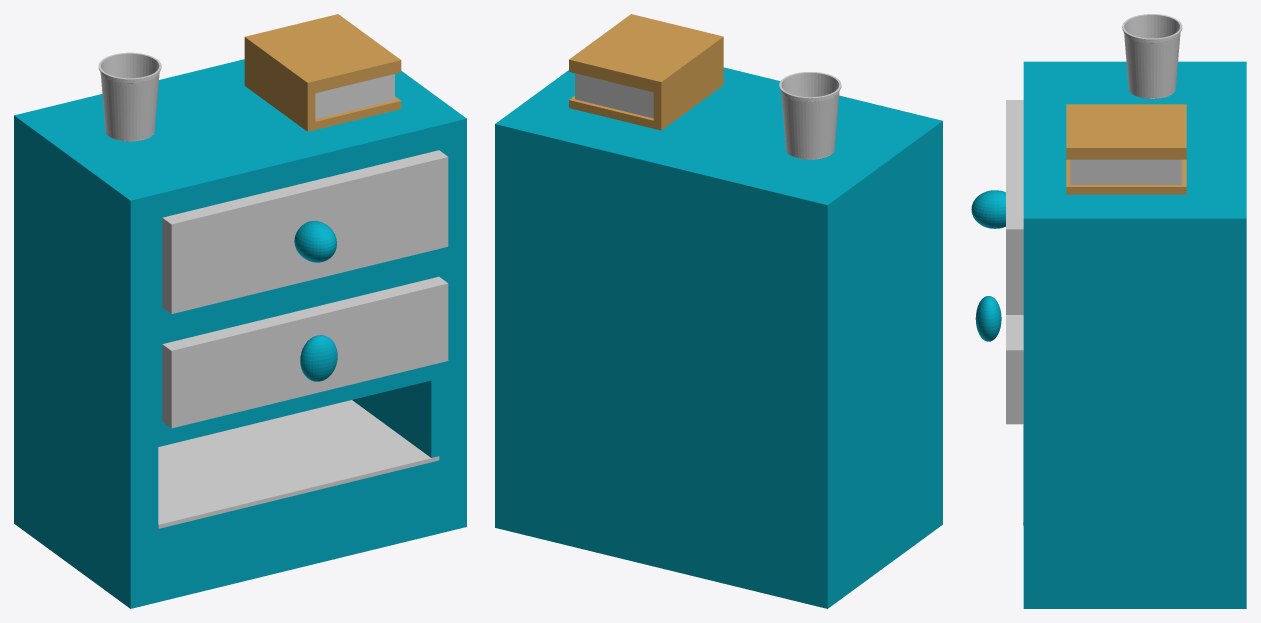
File: Dazzling Stantia-Blad.glb
The picture shows the model from 3 angles, left to right: view 1: azimuth 30°, elevation 25°; view 2: azimuth 150°, elevation 25°; view 3: azimuth 270°, elevation 25°; orthographic projection. The views are drawn at different scales.
Parts seen in each view (by area): view 1: Mesh_Mesh_head_geo.001_lambert2SG.001; view 2: Mesh_Mesh_head_geo.001_lambert2SG.001; view 3: Mesh_Mesh_head_geo.001_lambert2SG.001.
Part boxes in pixels (x1,y1,x2,y2): Mesh_Mesh_head_geo.001_lambert2SG.001: (14,14,466,608); Mesh_Mesh_head_geo.001_lambert2SG.001: (495,14,942,608); Mesh_Mesh_head_geo.001_lambert2SG.001: (971,14,1246,608).
Size of the model in its own units: 86.26 by 117 by 63.9.
